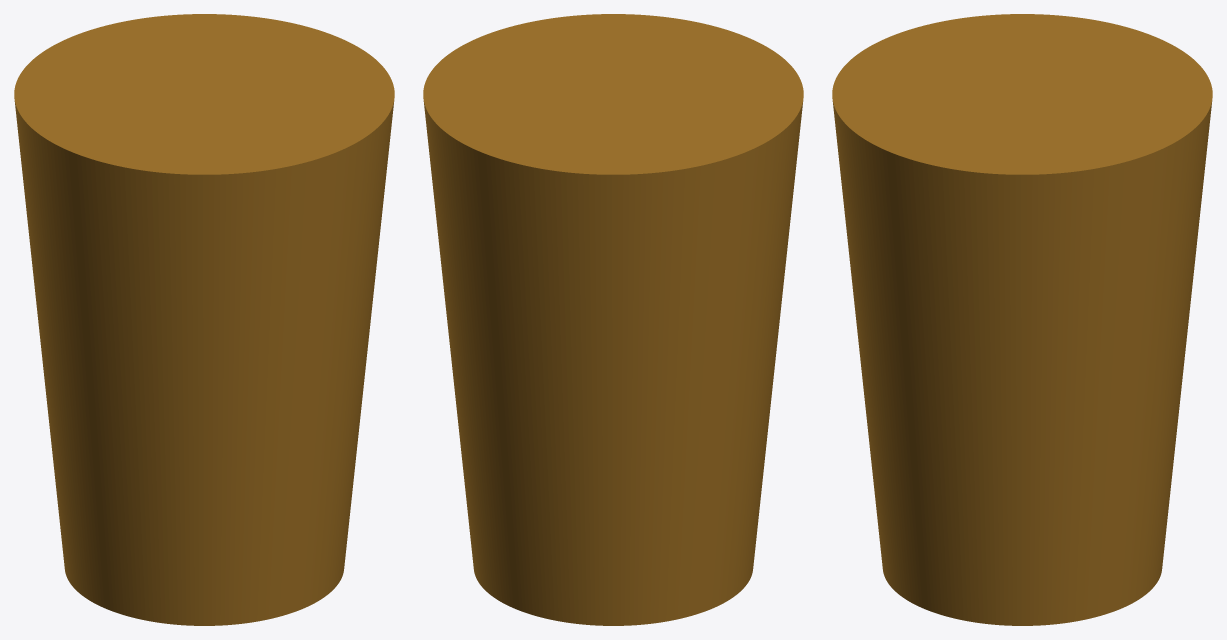
File: LightOnseiling.fbx
3 views of the same model, side by side, from view 1: azimuth 30°, elevation 25°; view 2: azimuth 150°, elevation 25°; view 3: azimuth 270°, elevation 25° (orthographic).
Visible parts, largest first — view 1: Light; view 2: Light; view 3: Light.
Part boxes in pixels (x1=…): Light: x1=14, y1=14, x2=394, y2=625; Light: x1=423, y1=14, x2=803, y2=625; Light: x1=832, y1=14, x2=1212, y2=625.
Bounding box in the file's own units: 220 × 301 × 220.
